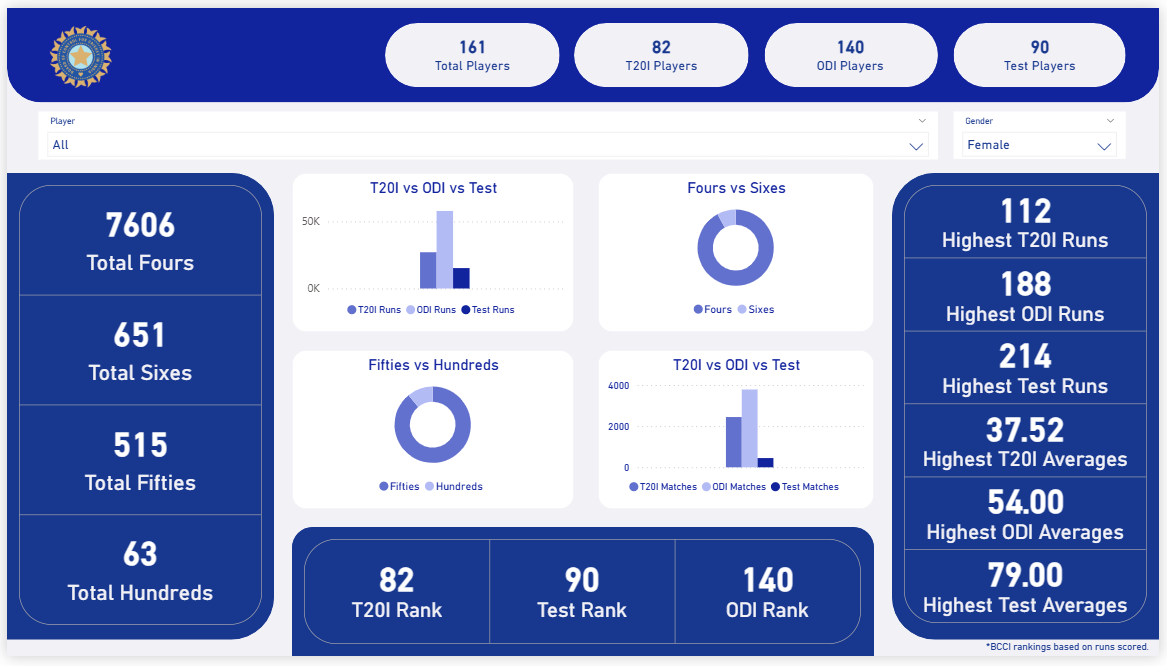

This screenshot's page, from the dashboard's own definition file:
{"tool":"powerbi","page":{"name":"Women's Overview","canvas":[1280,720],"ordinal":2},"visuals":[{"type":"shape","box":[0,0,1280,105],"z":0},{"type":"image","box":[34.2,20,94.2,68.3],"z":1000},{"type":"slicer","title":"Gender","fields":{"Values":["Player_Data.Gender"]},"box":[1051.4,115.7,191.4,52.9],"z":3000},{"type":"group","id":"g1","title":"Group 1","box":[420,16.7,194.3,71.4],"z":4000},{"type":"group","id":"g2","title":"Group 2","box":[629.2,16.7,194.2,70.8],"z":5000},{"type":"group","id":"g3","title":"Group 3","box":[839.6,16.7,195,71.7],"z":6000},{"type":"group","id":"g4","title":"Group 4","box":[1050.8,16.7,192.5,71.7],"z":7000},{"type":"group","id":"g5","title":"Group 5","box":[0,183.3,296.7,518.3],"z":8000},{"type":"slicer","fields":{"Values":["Player_Data.Player"]},"box":[34.2,115,999.2,53.3],"z":9000},{"type":"group","id":"g6","title":"Group 6","box":[983.3,183.3,296.7,518.3],"z":10000},{"type":"donutChart","title":"Fours vs Sixes","fields":{"Y":["Player_Data.Total_Fours","Player_Data.Total_Sixes"]},"box":[656.7,183.3,306.7,176.7],"z":11000},{"type":"shape","box":[420,16.7,194.3,71.4],"z":12000,"group":"g1"},{"type":"donutChart","title":"Fifties vs Hundreds","fields":{"Y":["Player_Data.Total_Fifties","Player_Data.Total_Hundreds"]},"box":[316.7,380,313.3,176.7],"z":12000},{"type":"shape","box":[629.2,16.7,194.3,71.4],"z":12500,"group":"g2"},{"type":"textbox","box":[1076.9,695.4,203.1,24.6],"z":13000},{"type":"clusteredColumnChart","title":"T20I vs ODI vs Test","fields":{"Y":["Sum(Player_Data.T20I_Runs)","Sum(Player_Data.ODI_Runs)","Sum(Player_Data.Test_Runs)"]},"box":[316.7,183.3,313.3,176.7],"z":14000},{"type":"clusteredColumnChart","title":"T20I vs ODI vs Test","fields":{"Y":["Sum(Player_Data.T20I_Matches)","Sum(Player_Data.ODI_Matches)","Sum(Player_Data.Test_Matches)"]},"box":[656.7,380,306.7,176.7],"z":15000},{"type":"group","id":"g7","title":"Group 7","box":[316.7,576.7,646.7,143.3],"z":16000},{"type":"shape","box":[840.4,16.7,192.9,71.4],"z":17000,"group":"g3"},{"type":"cardVisual","title":"Number of Player","fields":{"Data":["Player_Data.Total_Players"]},"box":[421.6,16.7,191.4,71.4],"z":19000,"group":"g1"},{"type":"shape","box":[0,183.3,296.7,518.3],"z":19001,"group":"g5"},{"type":"shape","box":[983.3,183.3,296.7,518.3],"z":19001,"group":"g6"},{"type":"shape","box":[316.7,576.7,646.7,143.3],"z":19001,"group":"g7"},{"type":"cardVisual","fields":{"Data":["Player_Data.ODI_Players"]},"box":[839.6,16.7,194.3,71.4],"z":19500,"group":"g3"},{"type":"cardVisual","fields":{"Data":["Player_Data.Max_T20i","Player_Data.Max_Odi","Player_Data.Max_Test","Player_Data.Max_Avg_T20i","Player_Data.Max_Avg_Odi","Player_Data.Max_Avg_Test"]},"box":[983.3,183.3,296.7,518.3],"z":19501,"group":"g6"},{"type":"cardVisual","fields":{"Data":["Player_Data.Total_Fours","Player_Data.Total_Sixes","Player_Data.Total_Fifties","Player_Data.Total_Hundreds"]},"box":[0,183.4,296.6,518.2],"z":19501,"group":"g5"},{"type":"cardVisual","fields":{"Data":["Max(Player_Data.T20I_Rank)","Max(Player_Data.ODI_Rank)","Max(Player_Data.Test_Rank)"]},"box":[316.7,576.7,646.7,143.3],"z":19501,"group":"g7"},{"type":"shape","box":[1051.3,16.7,191.4,71.4],"z":20500,"group":"g4"},{"type":"cardVisual","fields":{"Data":["Player_Data.Test_Players"]},"box":[1050.8,16.7,192.9,71.4],"z":21000,"group":"g4"},{"type":"cardVisual","fields":{"Data":["Player_Data.T20I_Players"]},"box":[630.8,16.7,191.4,71.4],"z":21500,"group":"g2"}]}

Visuals, with their boxes in screenshot pixels (x1, y1, x2, y2), scaled from the page's 1280x720 canvas onto the 1167x666 screenshot:
shape: <bbox>0, 0, 1166, 97</bbox>
image: <bbox>31, 18, 117, 82</bbox>
"Gender" slicer: <bbox>959, 107, 1133, 156</bbox>
"Group 1" group: <bbox>383, 15, 560, 81</bbox>
"Group 2" group: <bbox>574, 15, 751, 81</bbox>
"Group 3" group: <bbox>765, 15, 943, 82</bbox>
"Group 4" group: <bbox>958, 15, 1134, 82</bbox>
"Group 5" group: <bbox>0, 170, 271, 649</bbox>
slicer - Player_Data.Player: <bbox>31, 106, 942, 156</bbox>
"Group 6" group: <bbox>896, 170, 1166, 649</bbox>
"Fours vs Sixes" donutChart: <bbox>599, 170, 878, 333</bbox>
shape: <bbox>383, 15, 560, 81</bbox>
"Fifties vs Hundreds" donutChart: <bbox>289, 352, 574, 515</bbox>
shape: <bbox>574, 15, 751, 81</bbox>
textbox: <bbox>982, 643, 1166, 665</bbox>
"T20I vs ODI vs Test" clusteredColumnChart: <bbox>289, 170, 574, 333</bbox>
"T20I vs ODI vs Test" clusteredColumnChart: <bbox>599, 352, 878, 515</bbox>
"Group 7" group: <bbox>289, 533, 878, 665</bbox>
shape: <bbox>766, 15, 942, 81</bbox>
"Number of Player" cardVisual: <bbox>384, 15, 559, 81</bbox>
shape: <bbox>0, 170, 271, 649</bbox>
shape: <bbox>896, 170, 1166, 649</bbox>
shape: <bbox>289, 533, 878, 665</bbox>
cardVisual - Player_Data.ODI_Players: <bbox>765, 15, 943, 81</bbox>
cardVisual - Player_Data.Max_T20i x Player_Data.Max_Odi: <bbox>896, 170, 1166, 649</bbox>
cardVisual - Player_Data.Total_Fours x Player_Data.Total_Sixes: <bbox>0, 170, 270, 649</bbox>
cardVisual - Max(Player_Data.T20I_Rank) x Max(Player_Data.ODI_Rank): <bbox>289, 533, 878, 665</bbox>
shape: <bbox>958, 15, 1133, 81</bbox>
cardVisual - Player_Data.Test_Players: <bbox>958, 15, 1134, 81</bbox>
cardVisual - Player_Data.T20I_Players: <bbox>575, 15, 750, 81</bbox>
